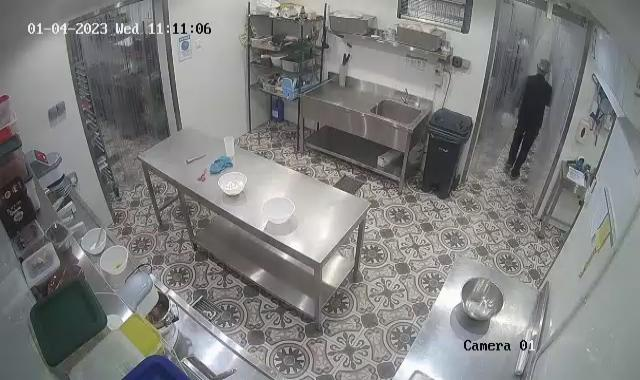hairnet: (531, 58, 554, 76)
